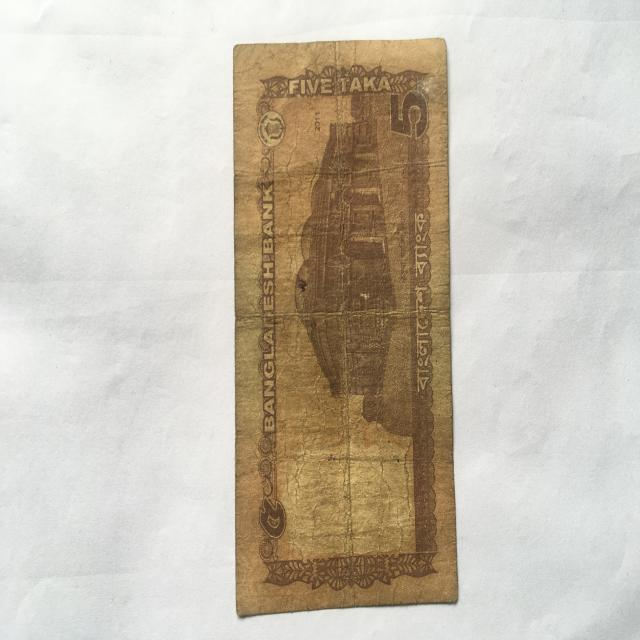Taka: (230, 41, 456, 612)
